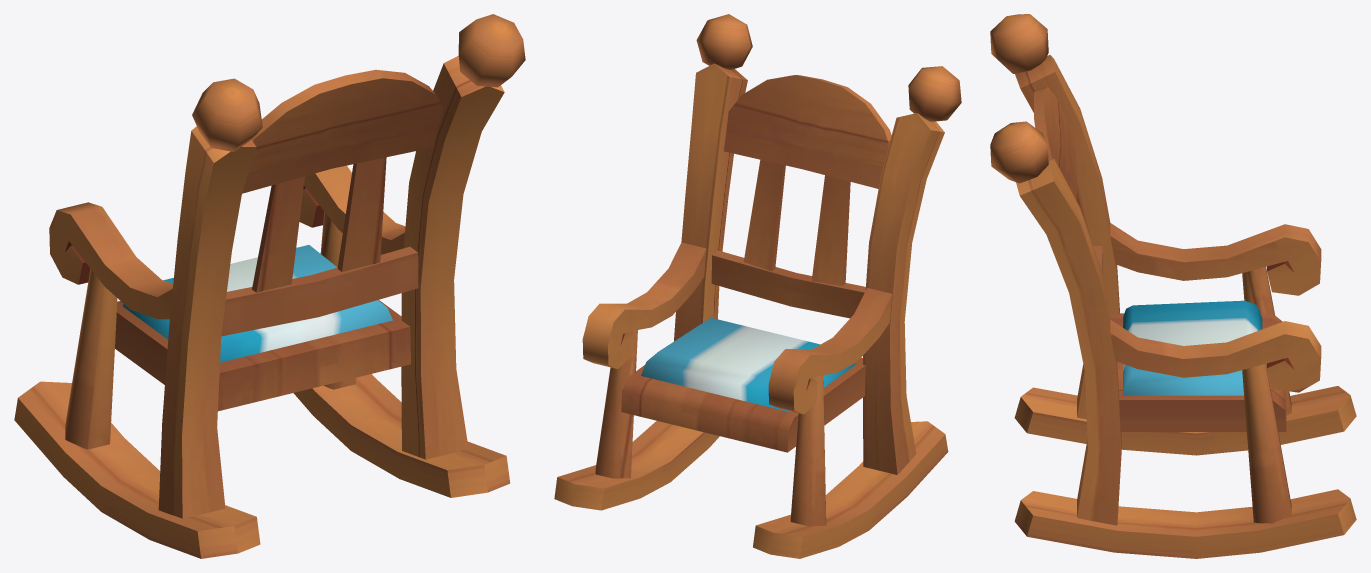
Rendered from DecorationView-RockingChair.fbx.
The picture shows the model from 3 angles, left to right: view 1: azimuth 30°, elevation 25°; view 2: azimuth 150°, elevation 25°; view 3: azimuth 270°, elevation 25°; orthographic projection. The views are drawn at different scales.
Parts seen in each view (by area): view 1: Model; view 2: Model; view 3: Model.
Boxes of the visible parts, box(x1,y1,x2,y2) form: Model: box(14, 14, 525, 558); Model: box(554, 14, 961, 558); Model: box(990, 14, 1356, 558).
Size of the model in its own units: 1.5 by 2.22 by 1.74.
